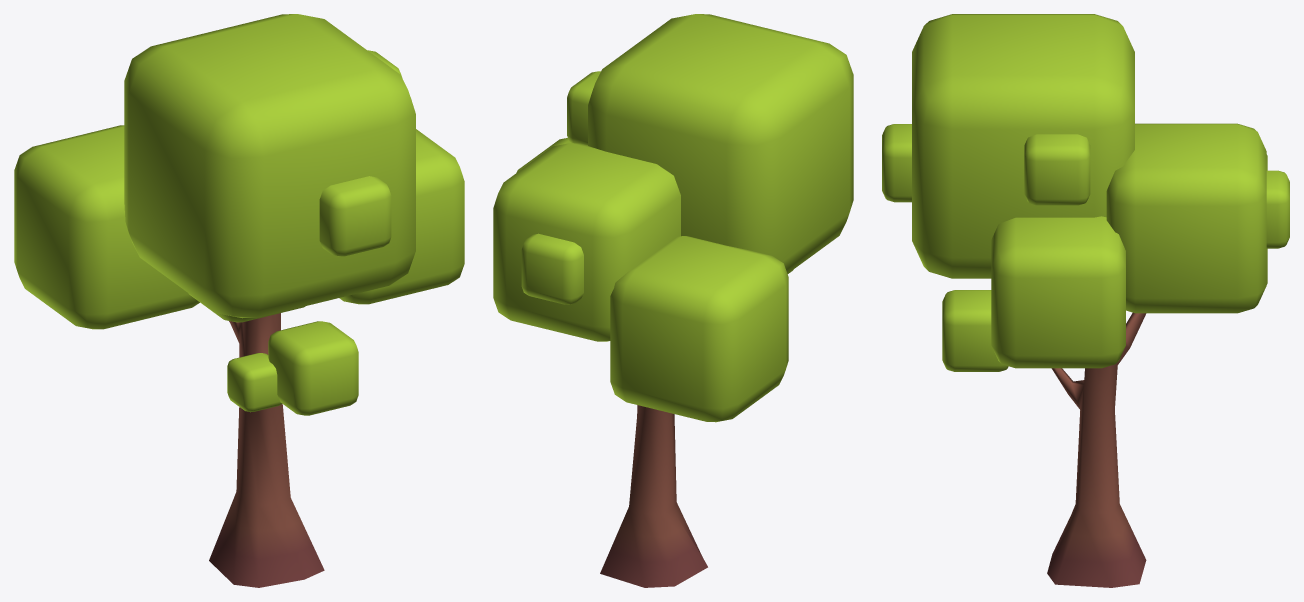
Rendered from TREE.fbx.
The picture shows the model from 3 angles, left to right: view 1: azimuth 30°, elevation 25°; view 2: azimuth 150°, elevation 25°; view 3: azimuth 270°, elevation 25°; orthographic projection. The views are drawn at different scales.
Parts seen in each view (by area): view 1: Cube.002; view 2: Cube.002; view 3: Cube.002.
Boxes of the visible parts, <box> form: Cube.002: <box>14,14,464,587</box>; Cube.002: <box>493,14,853,587</box>; Cube.002: <box>882,14,1289,587</box>.
Size of the model in its own units: 467 by 746 by 544.
